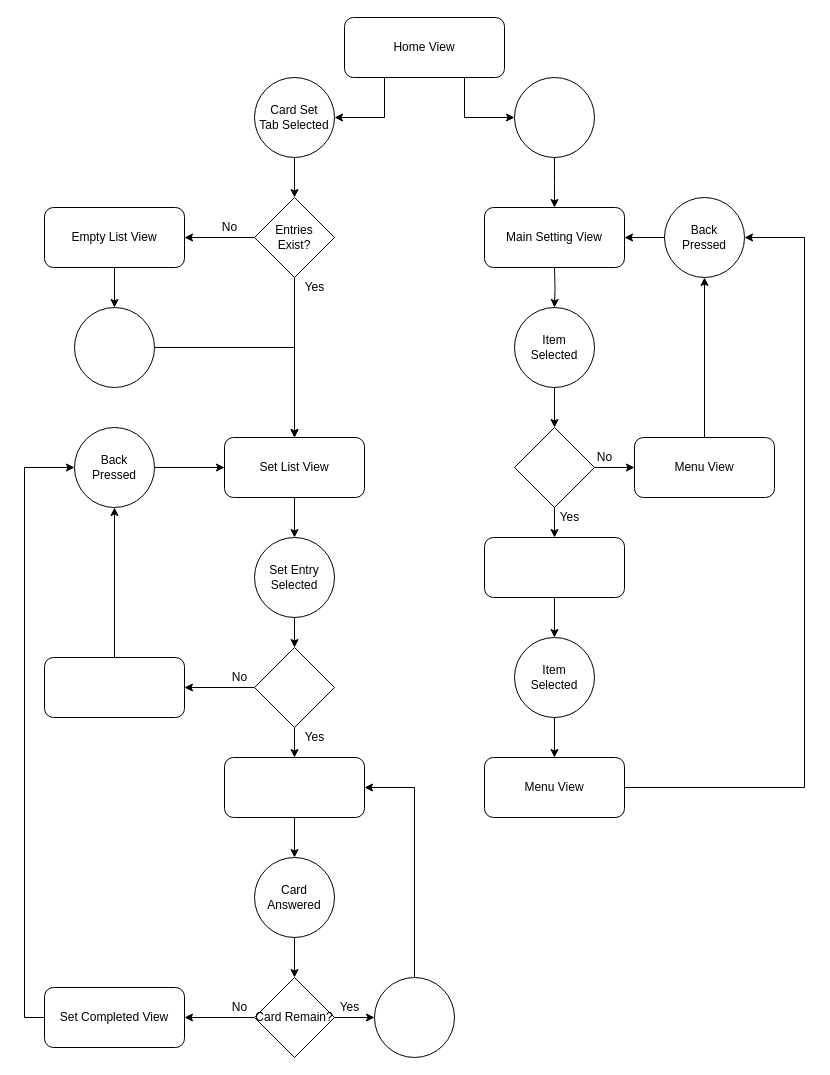
This 830x1075 diagram has some shape labels left out. The shapes that lost their labels are listed below. From the top down, each one's box as (x1, y1, x2, y2) in pixels, then its label:
(514, 76, 594, 158): Settings Tab Selected
(74, 306, 154, 388): Set Added
(514, 426, 594, 508): Sub- menues?
(484, 536, 624, 598): Submenu List View
(44, 656, 184, 718): Empty Set View
(254, 646, 334, 728): Set has Cards?
(224, 756, 364, 818): Show Card
(374, 976, 454, 1058): Next Card
